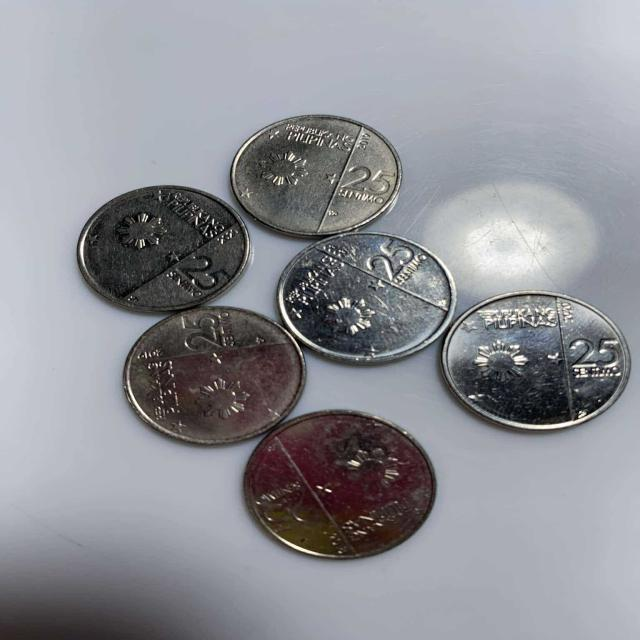25Cent_New_Front: (259, 488, 320, 531), (180, 311, 232, 353), (561, 334, 621, 368), (180, 253, 231, 292), (367, 240, 412, 278), (342, 163, 393, 196)
